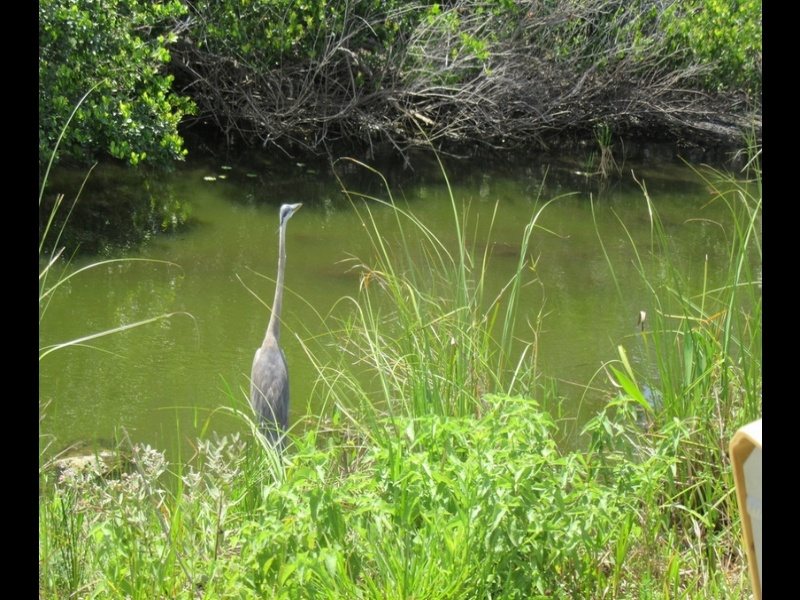heron: (247, 194, 312, 463)
